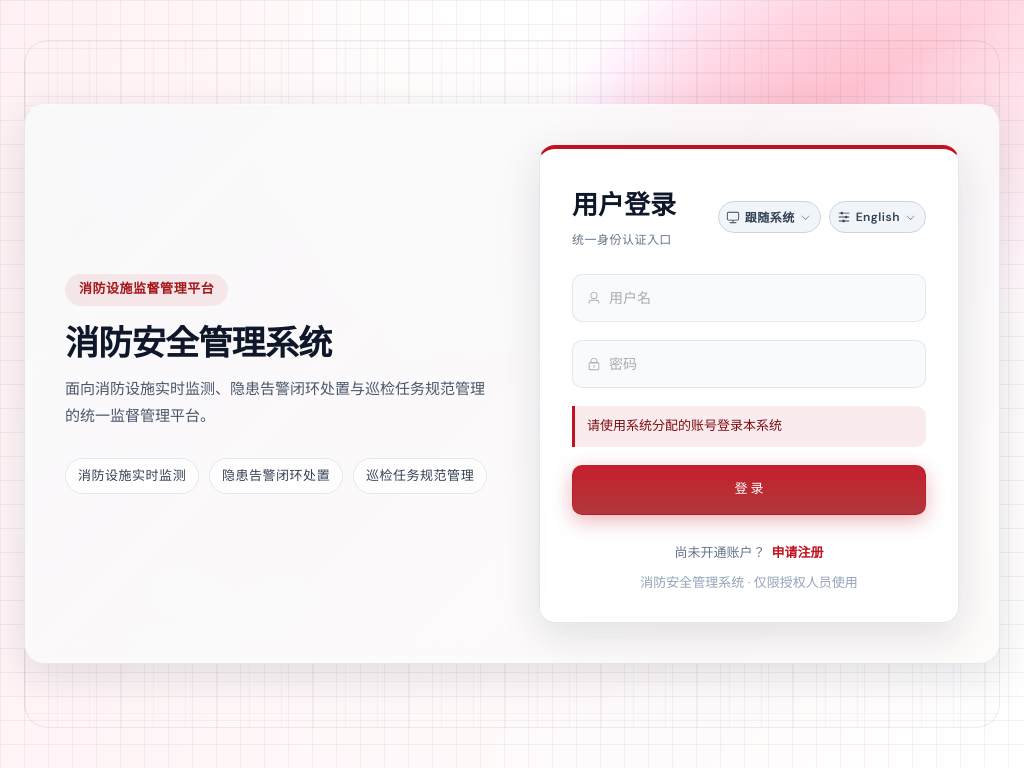
Scenario: LoginView MFA 二次验证（I-06） › 首次响应 mfaRequired：显示动态口令输入、提示、不跳转
The width and height of the screenshot is (1024, 768).
In the field with placeholder "用户名": (760, 298) [609, 279, 911, 317], type "alice"
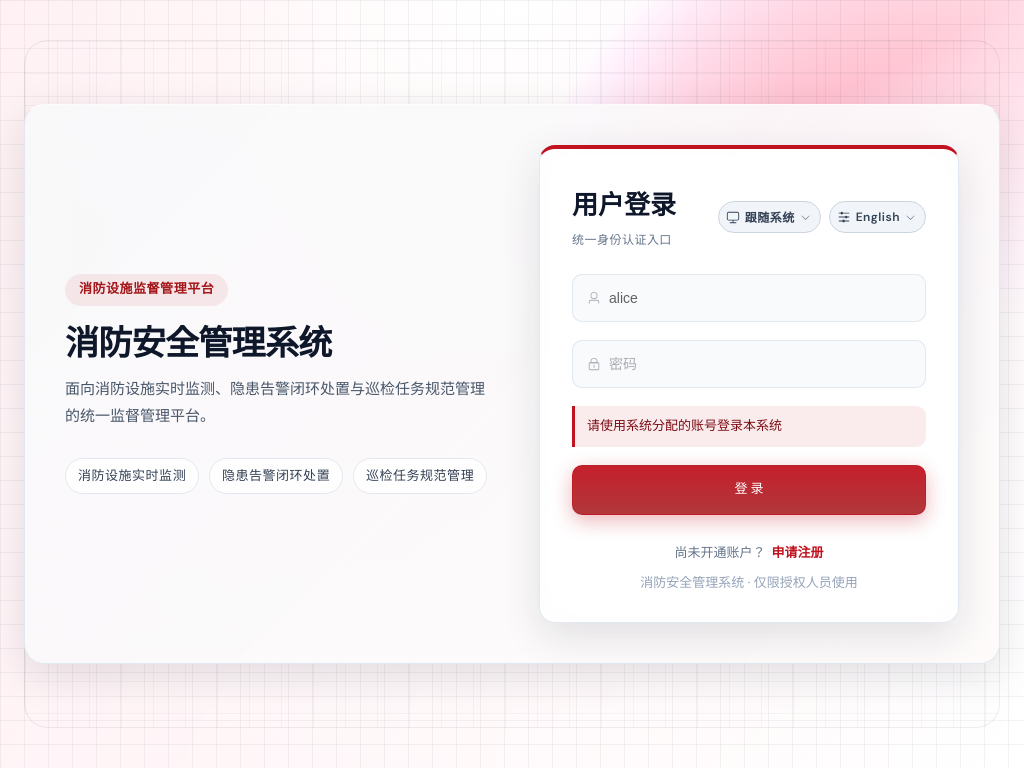
In the password field with placeholder "密码": (760, 364) [609, 345, 911, 383], type "Str0ng-Pass"
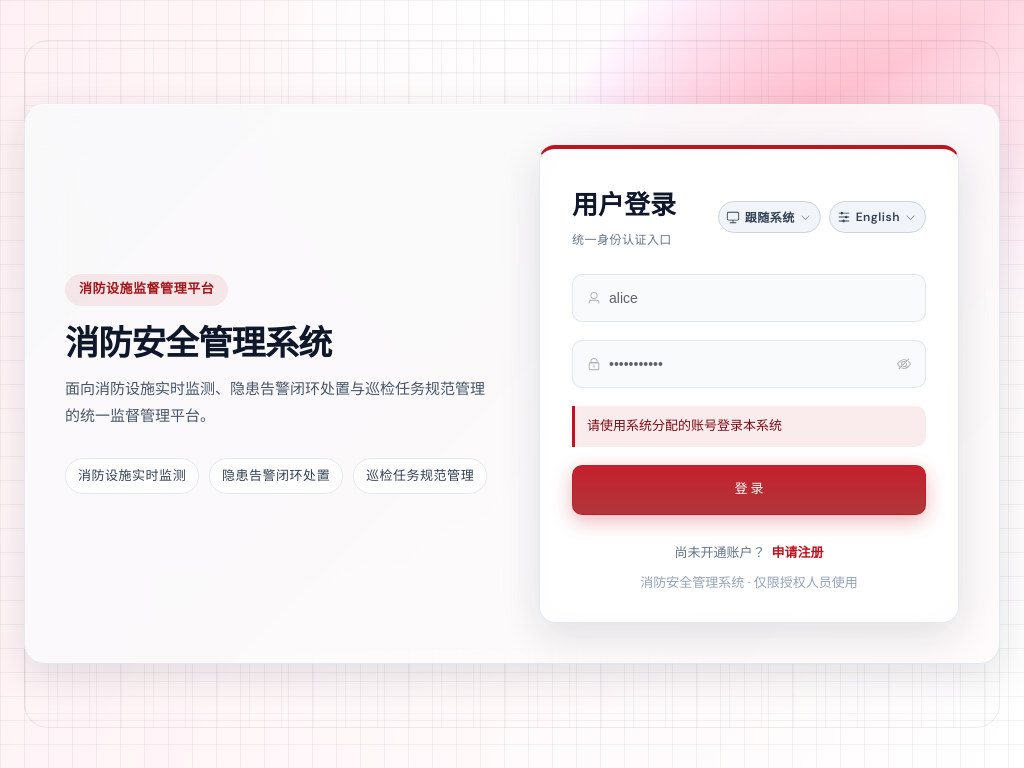
Click the button with class "glass-btn--primary": (749, 490) [572, 464, 926, 514]
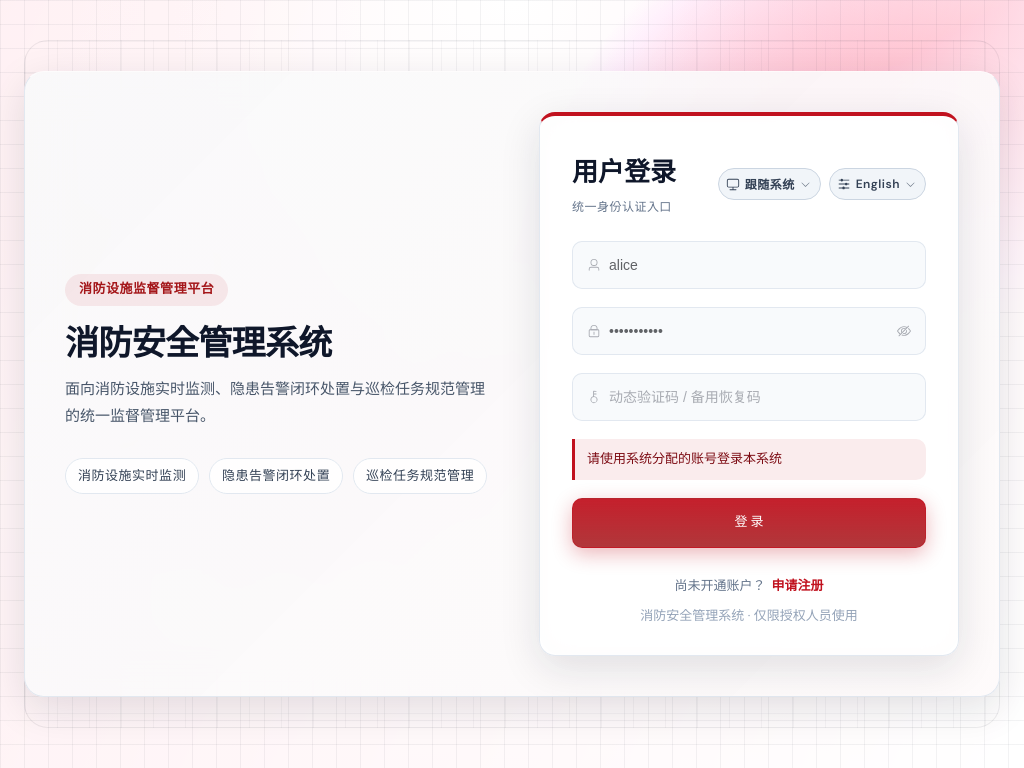
expect the field with id "mfaCode" is enabled: met, box [609, 378, 911, 416]
